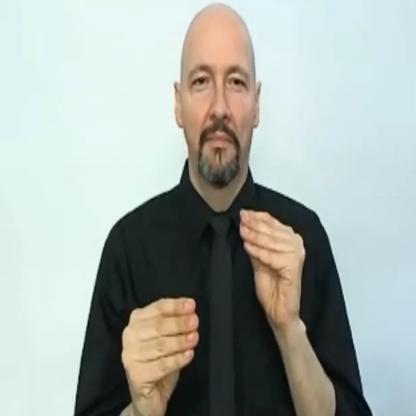Fix: (123, 201, 301, 404)
